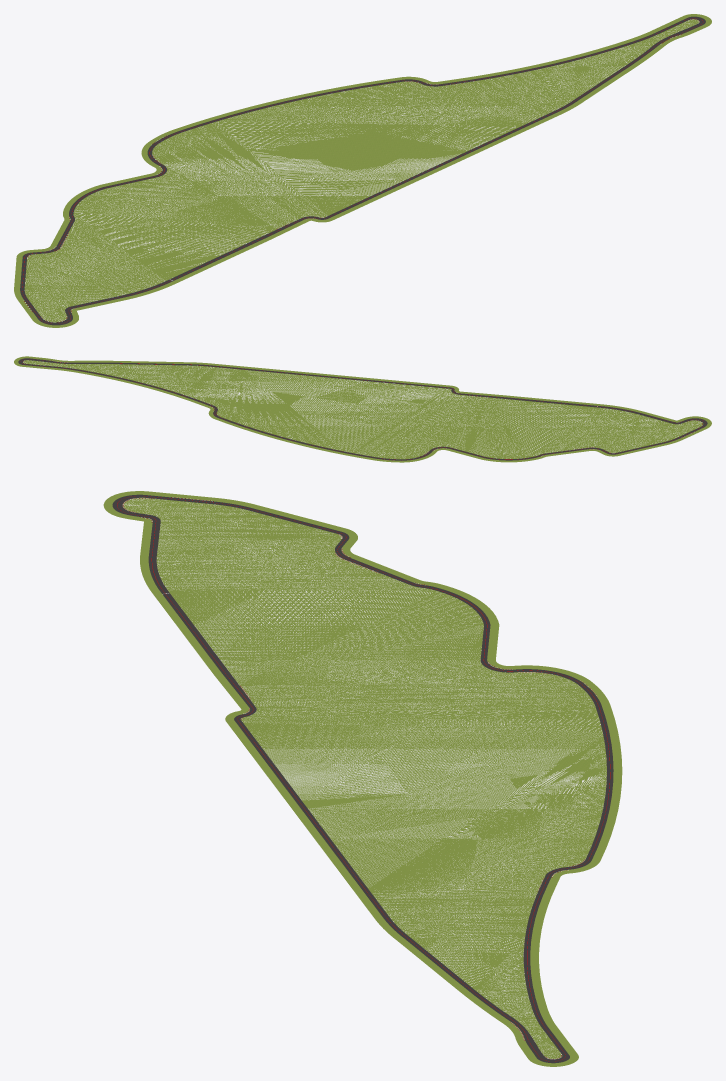
Rendered from montreal.dae.
3 renders of one model, top to bottom at view 1: azimuth 30°, elevation 25°; view 2: azimuth 150°, elevation 25°; view 3: azimuth 270°, elevation 25°, orthographic. The views are drawn at different scales.
Parts seen in each view (by area): view 1: SketchUp (×3); view 2: SketchUp (×3); view 3: SketchUp (×3).
Part boxes in pixels (box(x1,y1,x2,y2)): SketchUp (×3): box(14, 14, 711, 327); SketchUp (×3): box(14, 356, 711, 462); SketchUp (×3): box(103, 491, 622, 1066).
Size of the model in its own units: 24738 by 9415 by 0.4331.
9 materials, 3 textured.
